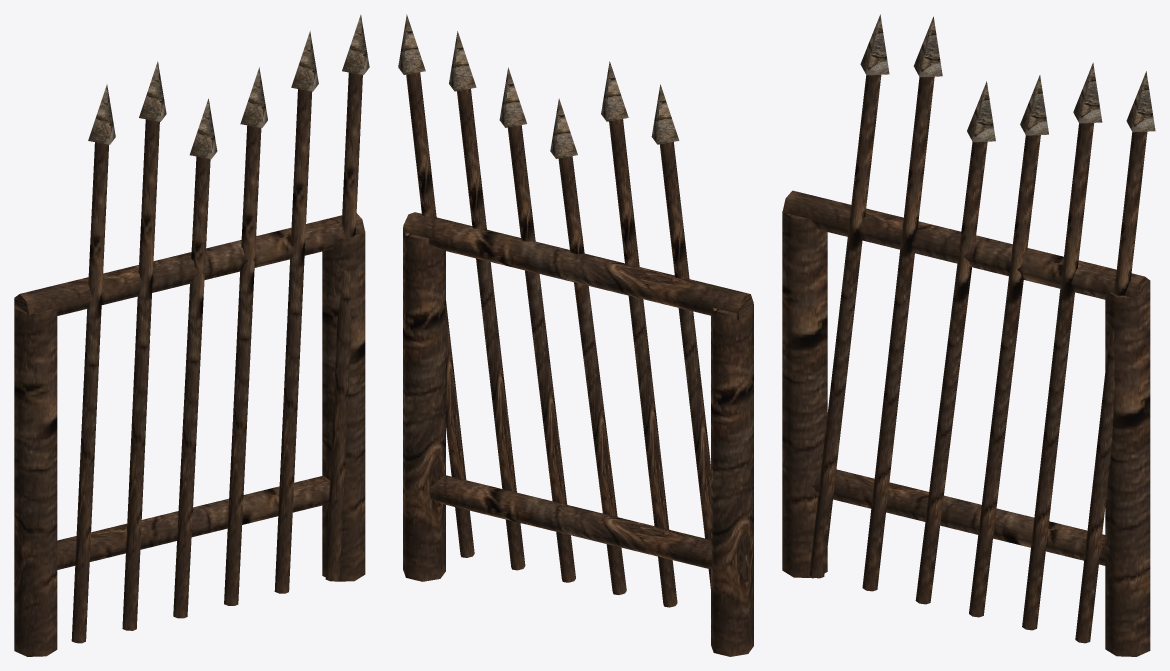
The model's file is swords.glb.
3 renders of one model, left to right at view 1: azimuth 30°, elevation 25°; view 2: azimuth 150°, elevation 25°; view 3: azimuth 330°, elevation 25°, orthographic. The views are drawn at different scales.
Parts seen in each view (by area): view 1: part_0, part_1; view 2: part_0, part_1; view 3: part_0, part_1.
Part boxes in pixels (x1,y1,x2,y2): part_0: [14, 72, 365, 656]; part_1: [88, 14, 369, 158]; part_0: [403, 72, 753, 656]; part_1: [398, 14, 679, 158]; part_0: [782, 75, 1150, 656]; part_1: [860, 14, 1155, 142].
Size of the model in its own units: 0.8837 by 1.33 by 0.1292.
2 materials, 2 textured.
